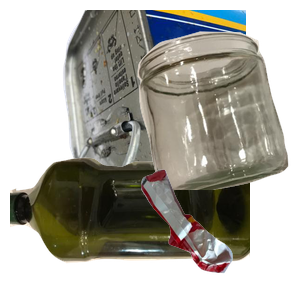glass: (135, 29, 300, 209)
metal: (60, 10, 300, 190)
plastic: (10, 149, 250, 300)
trash: (139, 167, 300, 300)
